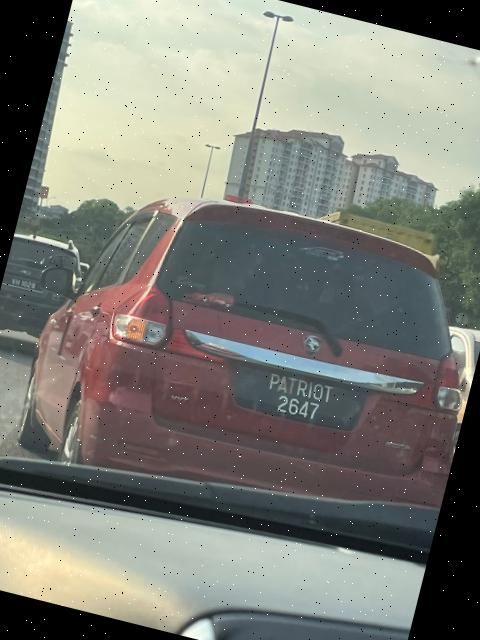License_Plate: (228, 361, 369, 443)
car: (7, 153, 480, 545)
